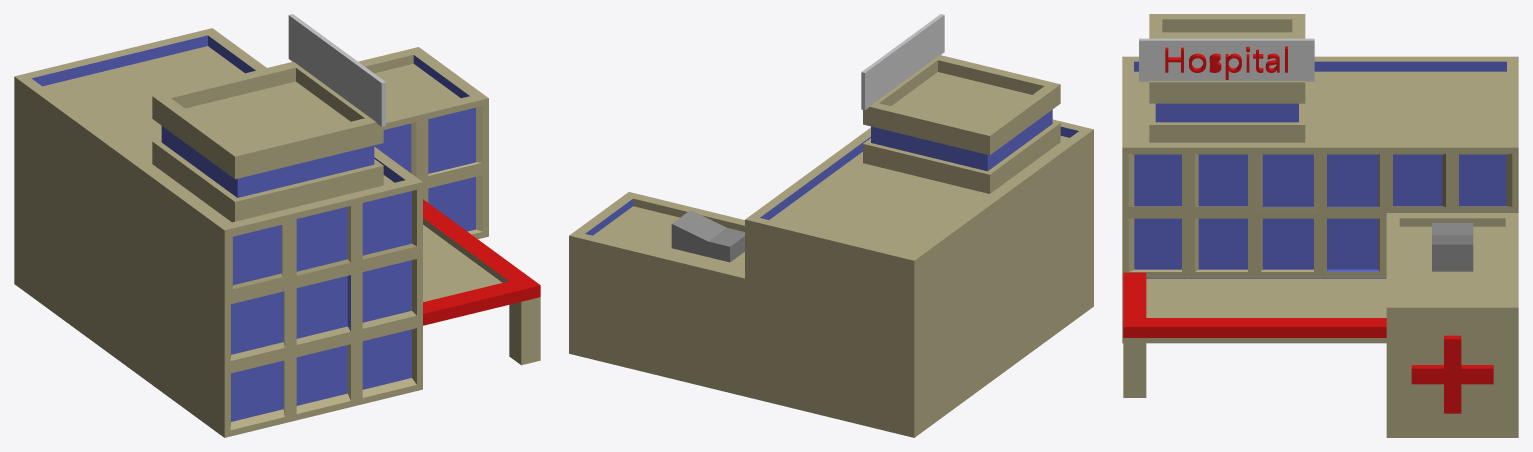
Rendered from hospital.fbx.
The picture shows the model from 3 angles, left to right: view 1: azimuth 30°, elevation 25°; view 2: azimuth 150°, elevation 25°; view 3: azimuth 270°, elevation 25°; orthographic projection. The views are drawn at different scales.
Parts seen in each view (by area): view 1: Cubo, Cubo_1, Cubo_2; view 2: Cubo, Cubo_2; view 3: Cubo, Cubo_1, Cubo_2, Tapa_1, Tapa_1_2, Extrusión.
Boxes of the visible parts, left/top/right/bottom form: Cubo: left=14, top=28, right=488, bottom=437; Cubo_1: left=423, top=199, right=540, bottom=365; Cubo_2: left=288, top=14, right=385, bottom=126; Cubo: left=569, top=55, right=1093, bottom=437; Cubo_2: left=861, top=14, right=944, bottom=110; Cubo: left=1122, top=14, right=1518, bottom=437; Cubo_1: left=1123, top=272, right=1386, bottom=397; Cubo_2: left=1139, top=38, right=1314, bottom=81; Tapa_1: left=1411, top=339, right=1493, bottom=413; Tapa_1_2: left=1165, top=49, right=1287, bottom=79; Extrusión: left=1165, top=46, right=1287, bottom=70.
Bounding box in the file's own units: 416 × 297 × 368.
